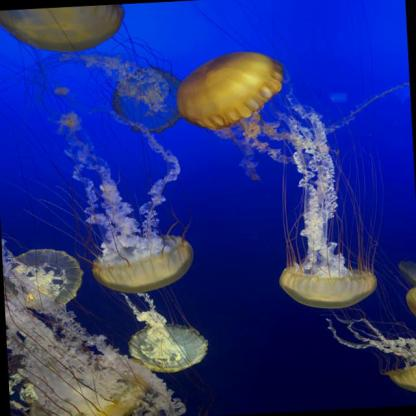jellyfish: (173, 50, 288, 137), (11, 354, 152, 416), (0, 4, 125, 59), (90, 234, 196, 293), (278, 254, 380, 309), (110, 64, 187, 136), (2, 247, 83, 311), (120, 318, 210, 372), (379, 357, 415, 395), (396, 256, 416, 286), (403, 284, 415, 330)
